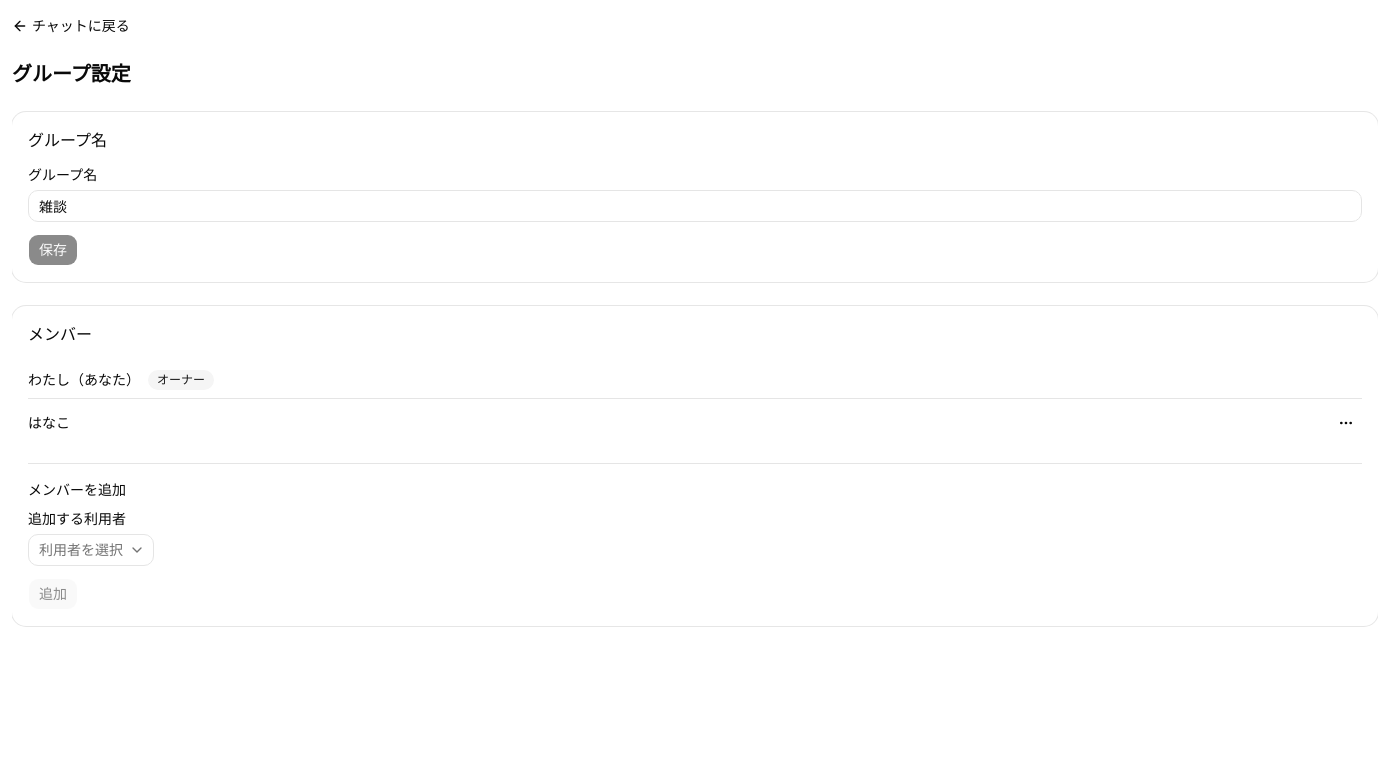
Test: GroupSettingsView › メンバーの追加 › 追加に成功すると一覧の末尾に行が出て、選択肢から消える
The image size is (1378, 768).
Click the dropdown named "追加する利用者".
click(91, 550)  # box [28,534,154,566]
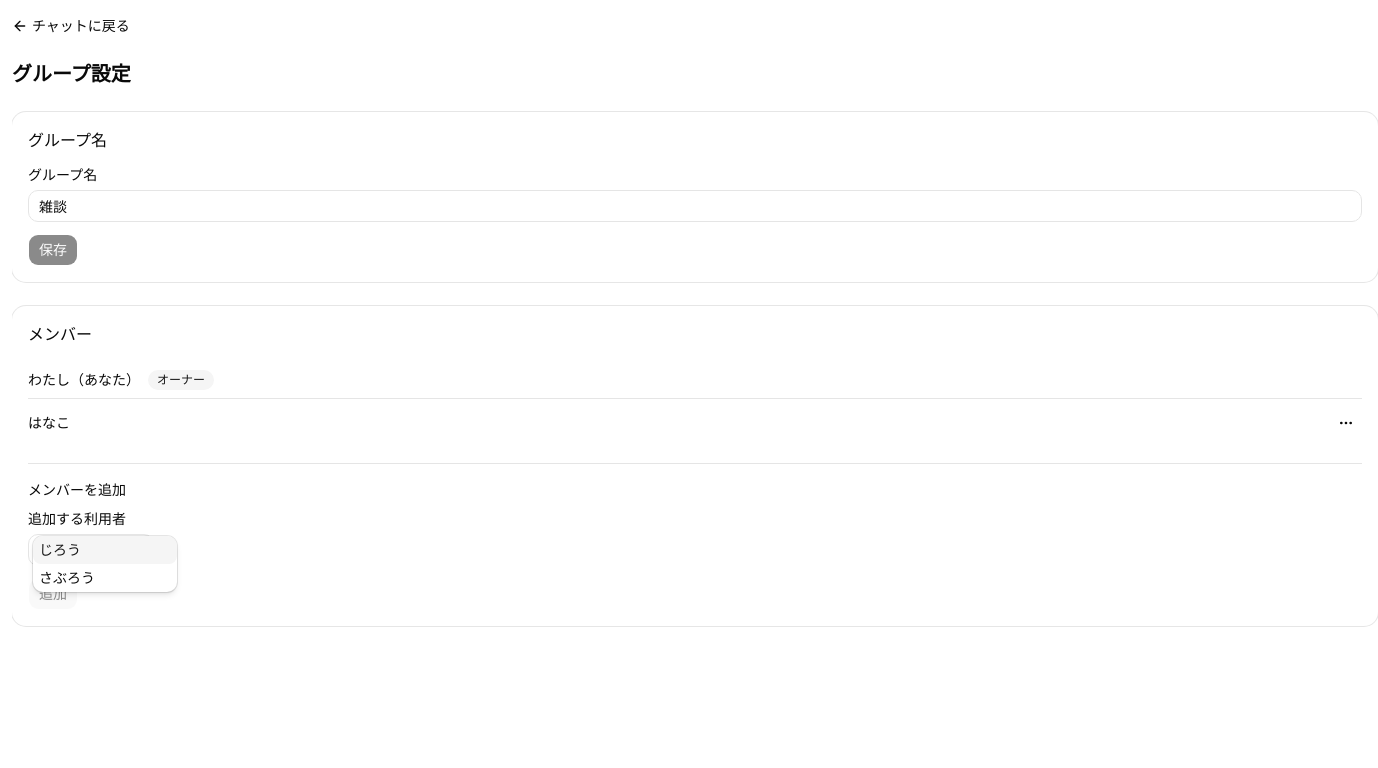
Click the option "じろう".
click(105, 550)  # box [33,536,177,564]
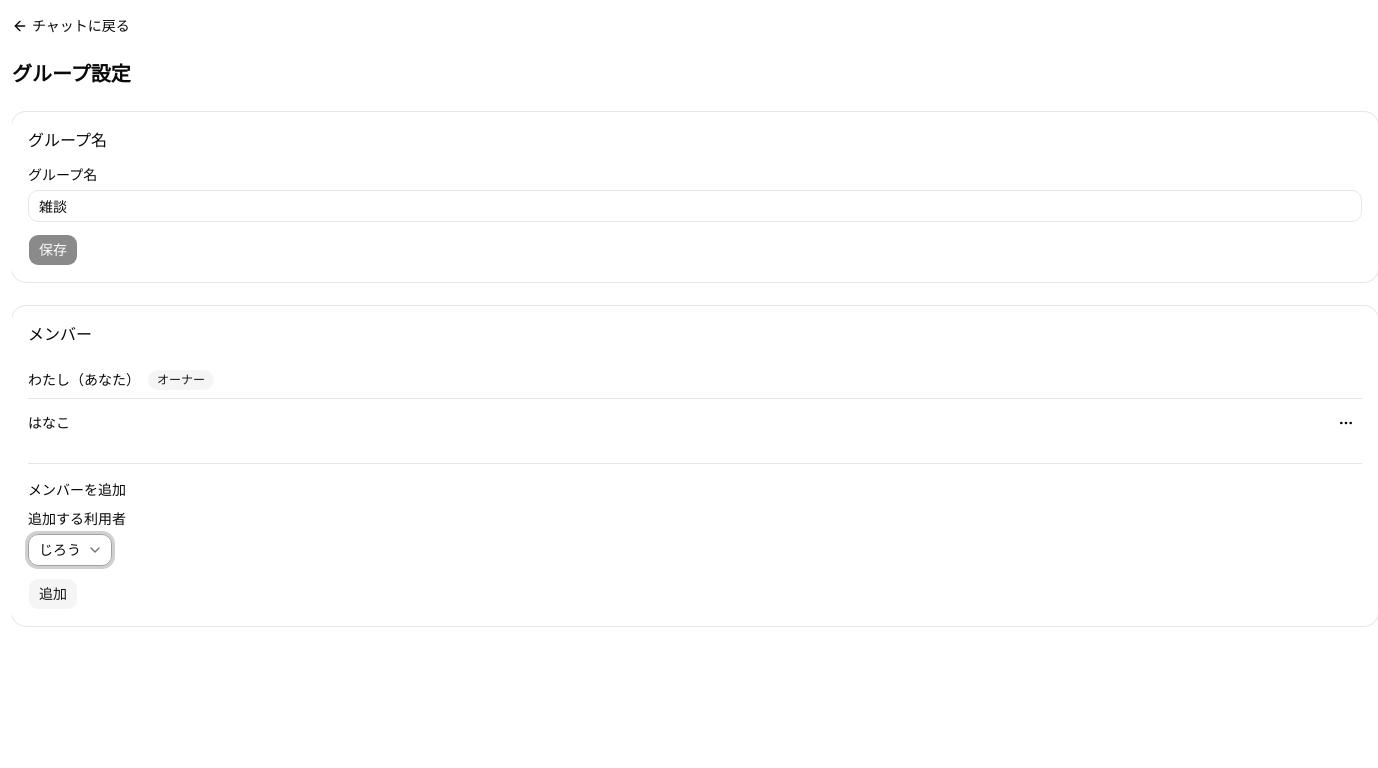
Click the button "追加".
click(53, 594)  # box [28,578,78,610]
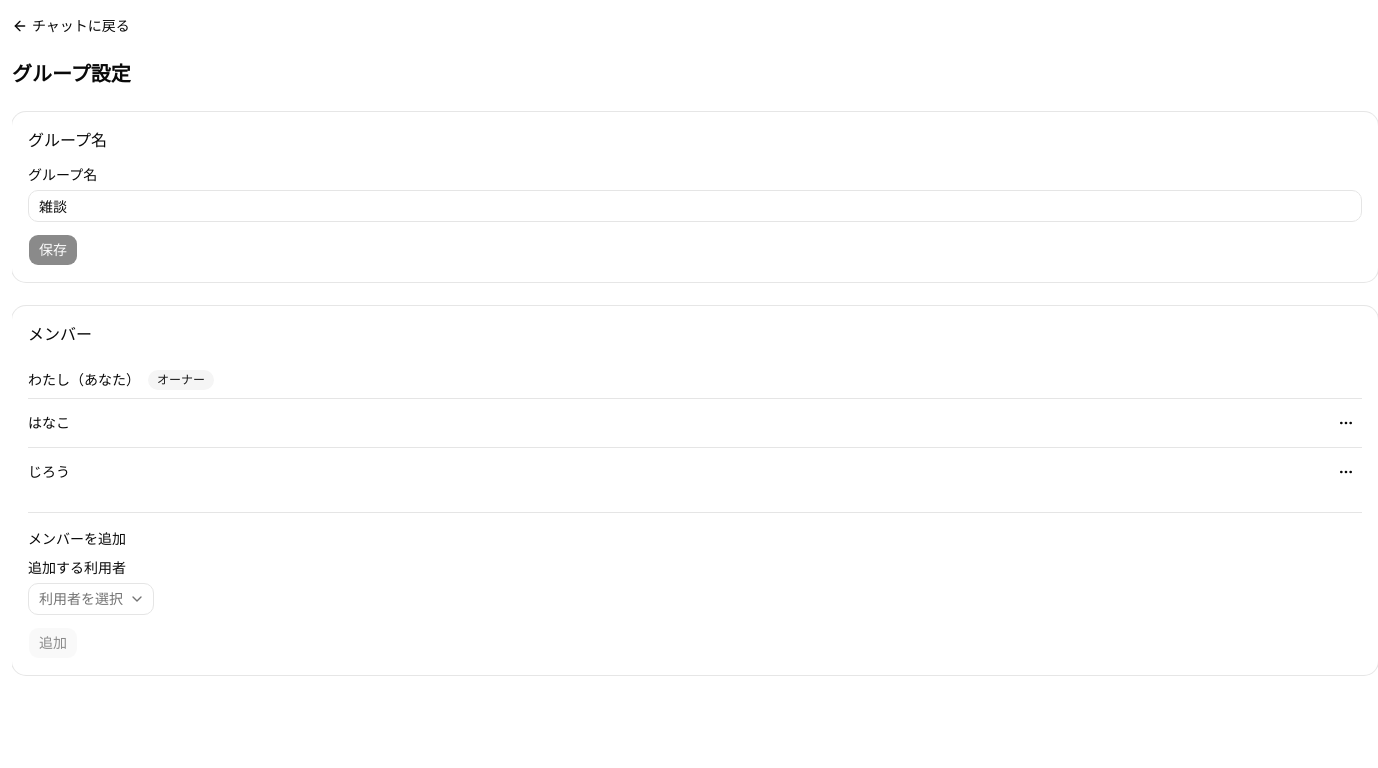
Now the text "じろう" is shown, box [28,462,70,482]
Click the dropdown named "追加する利用者".
click(91, 599)  # box [28,583,154,615]
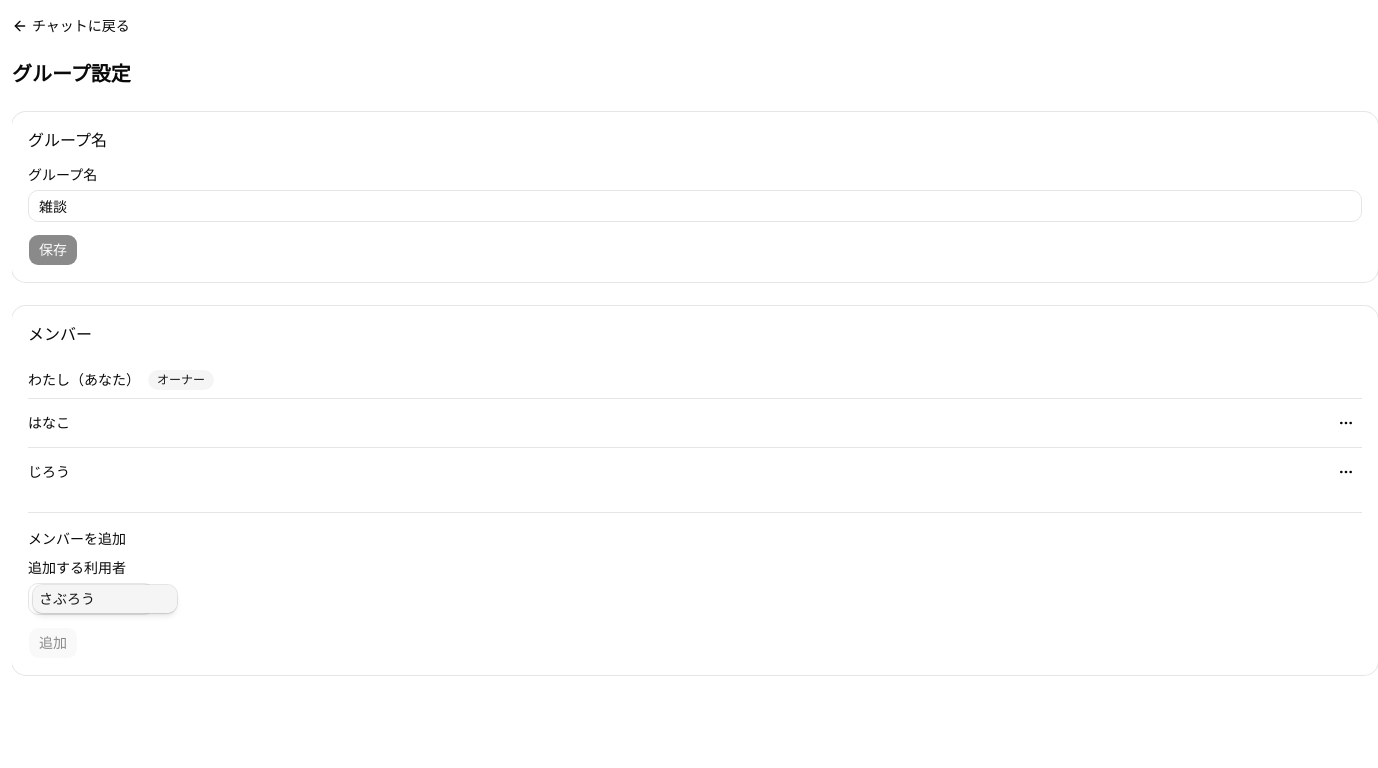
Now the options read "さぶろう", in this order, box [33,585,177,613]
